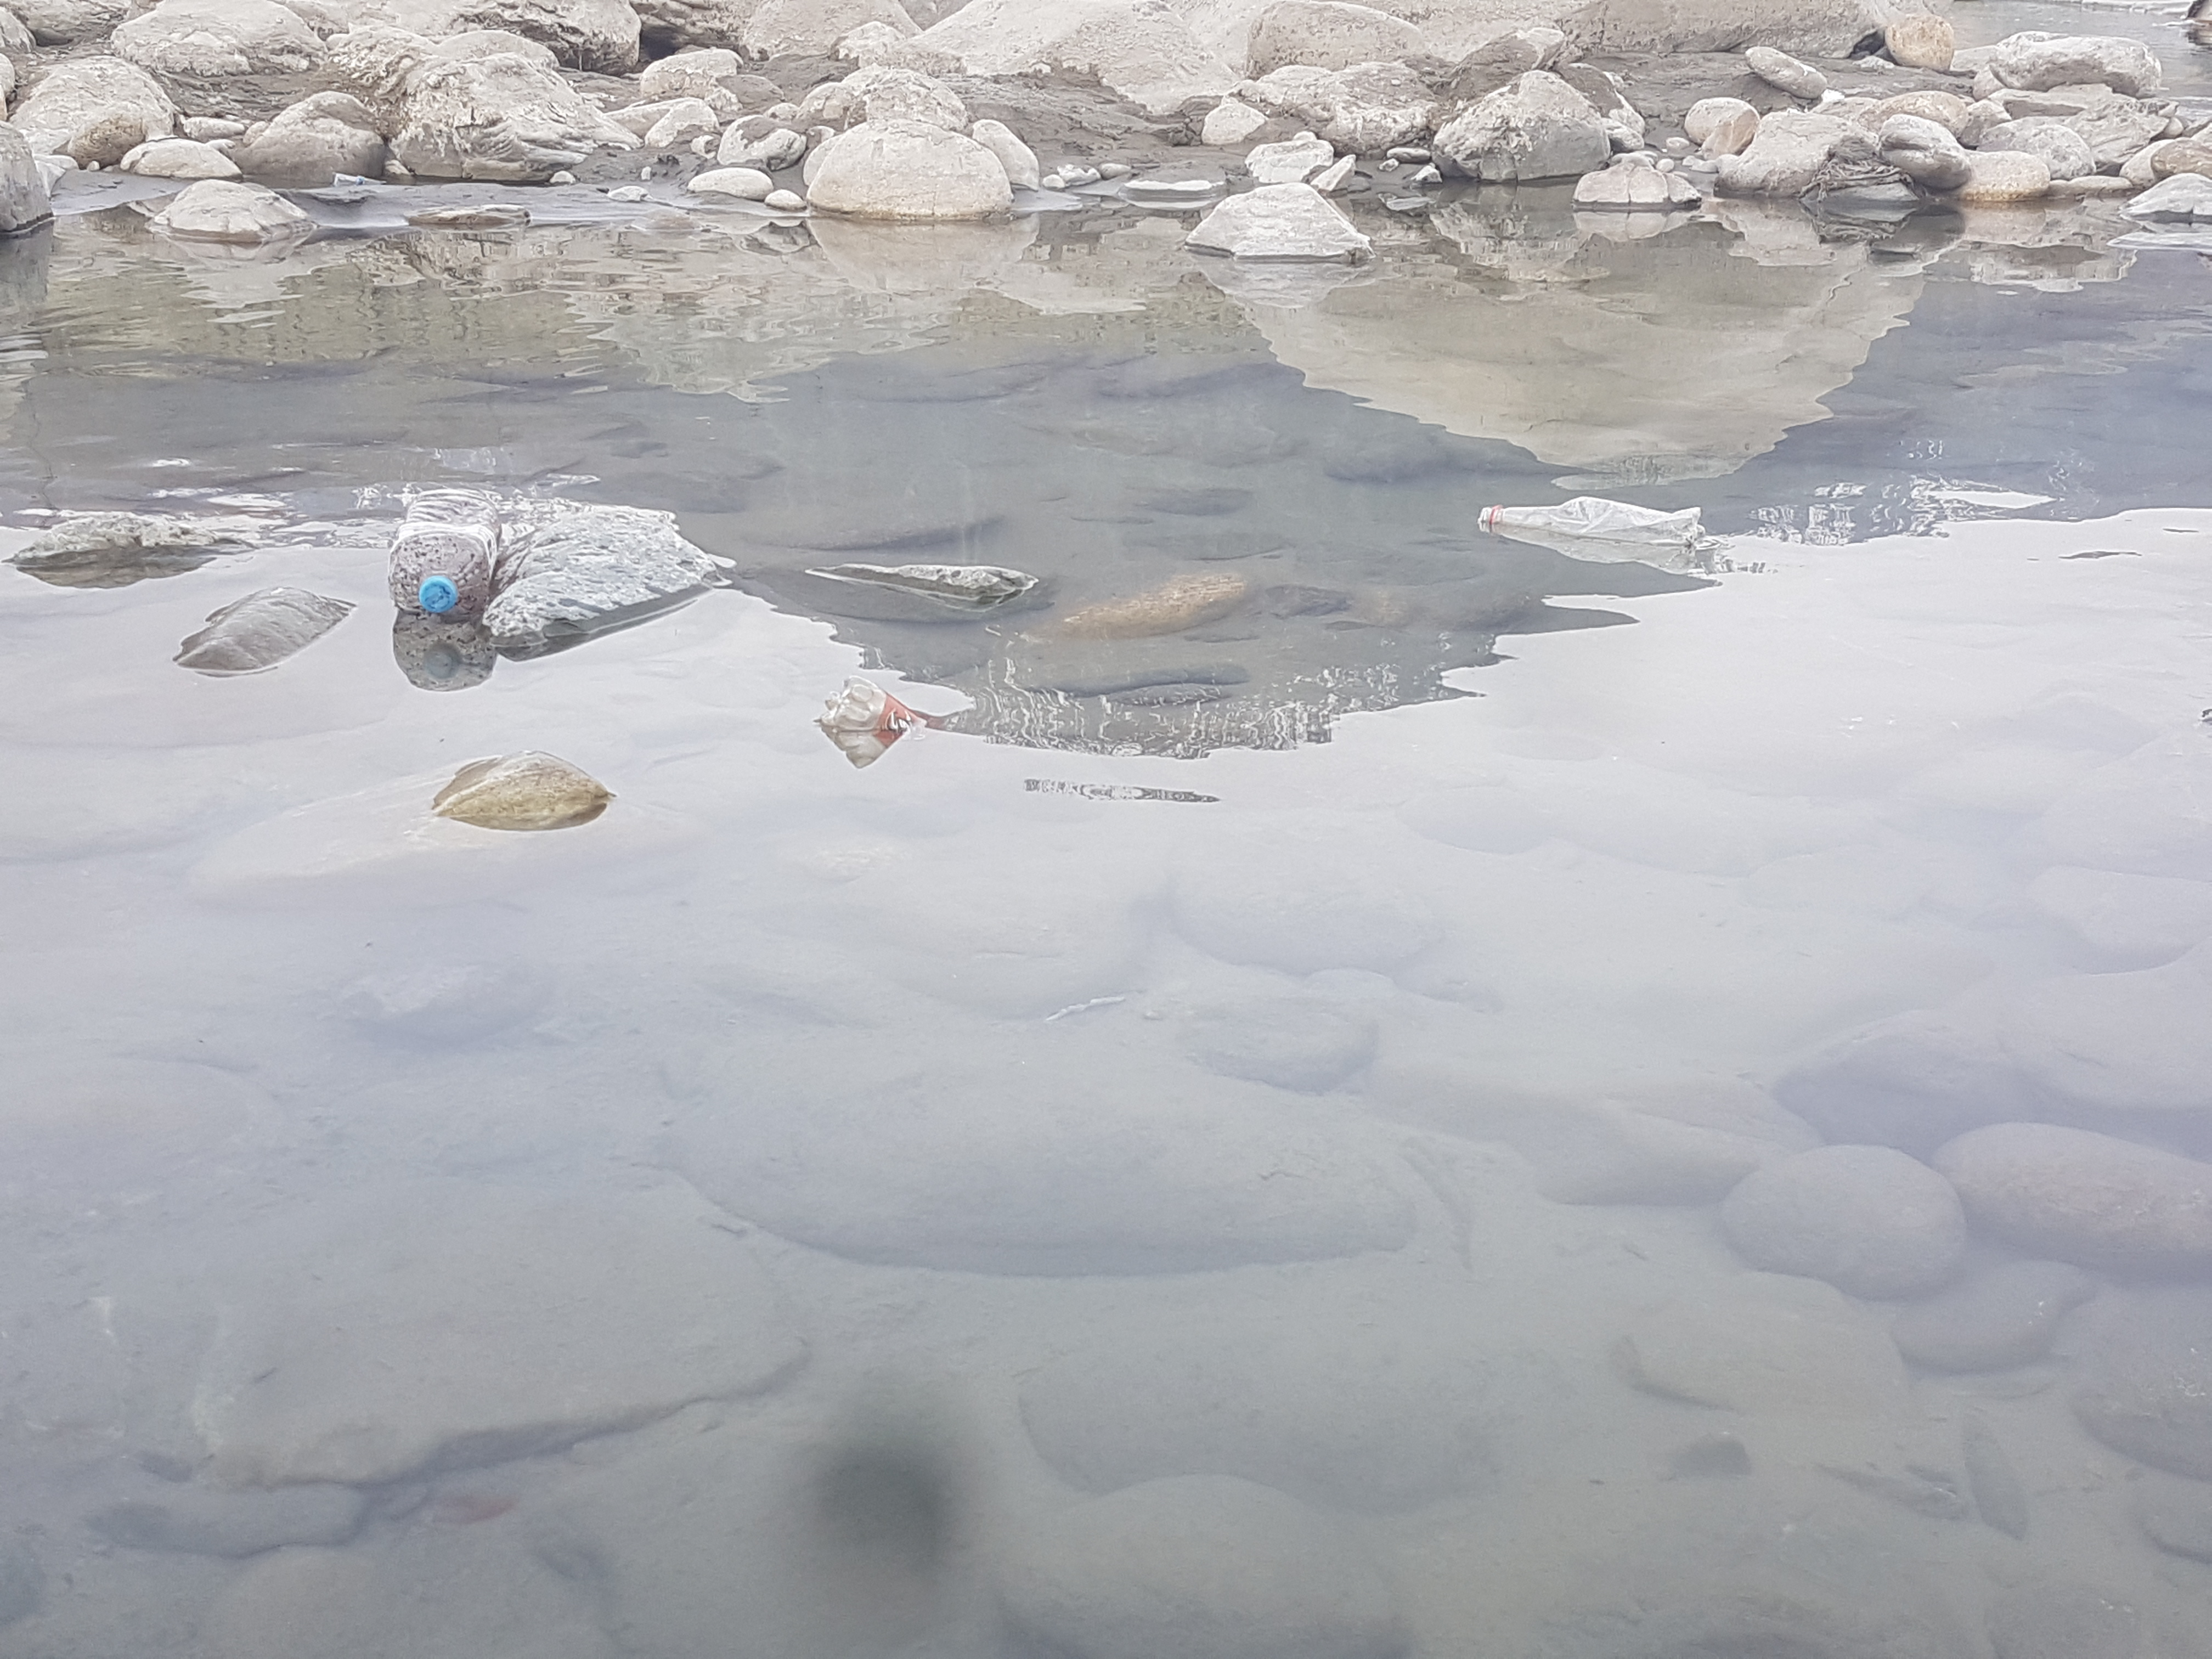Plastic Bottle: (387, 488, 502, 615), (1479, 495, 1705, 547), (820, 674, 923, 730), (334, 173, 385, 185)
